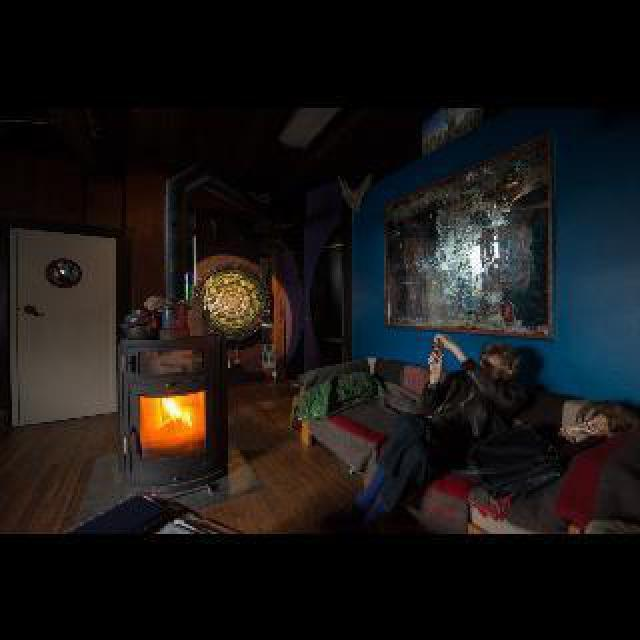Fire: (144, 394, 204, 440)
